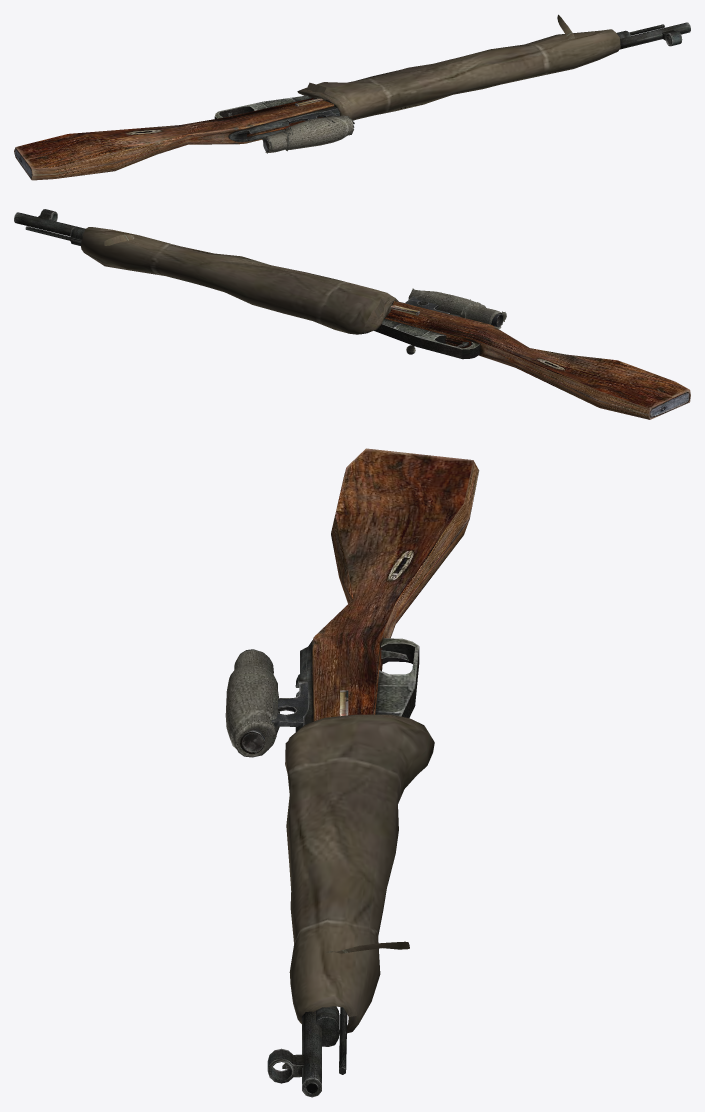
File: viewmodel_mosinnagant_cloth.glb
The picture shows the model from 3 angles, top to bottom: view 1: azimuth 30°, elevation 25°; view 2: azimuth 150°, elevation 25°; view 3: azimuth 270°, elevation 25°; orthographic projection. The views are drawn at different scales.
Bounding box in the file's own units: 50.27 × 3.35 × 8.58.
Materials: 4 (4 with a texture image).
